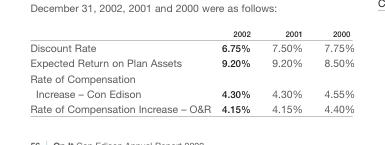table: (29, 28, 354, 113)
table column: (29, 28, 215, 113), (260, 28, 312, 113), (215, 28, 260, 113), (312, 28, 354, 113)
table column header: (29, 28, 354, 39)
table row: (29, 70, 354, 100), (29, 54, 354, 70), (29, 39, 354, 54), (29, 100, 354, 113), (29, 28, 354, 39)
